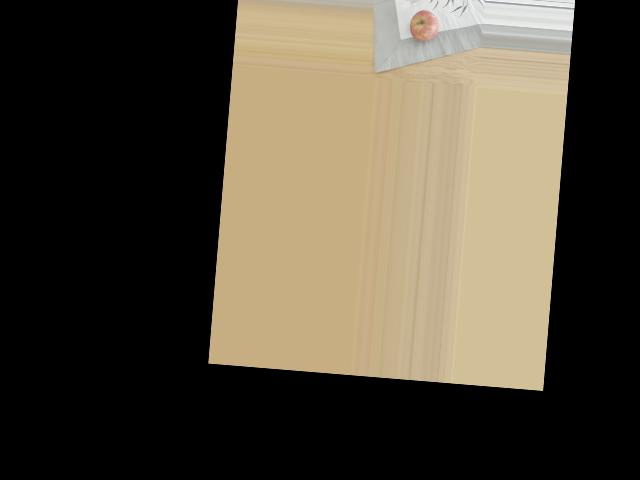apple: (405, 7, 440, 45)
